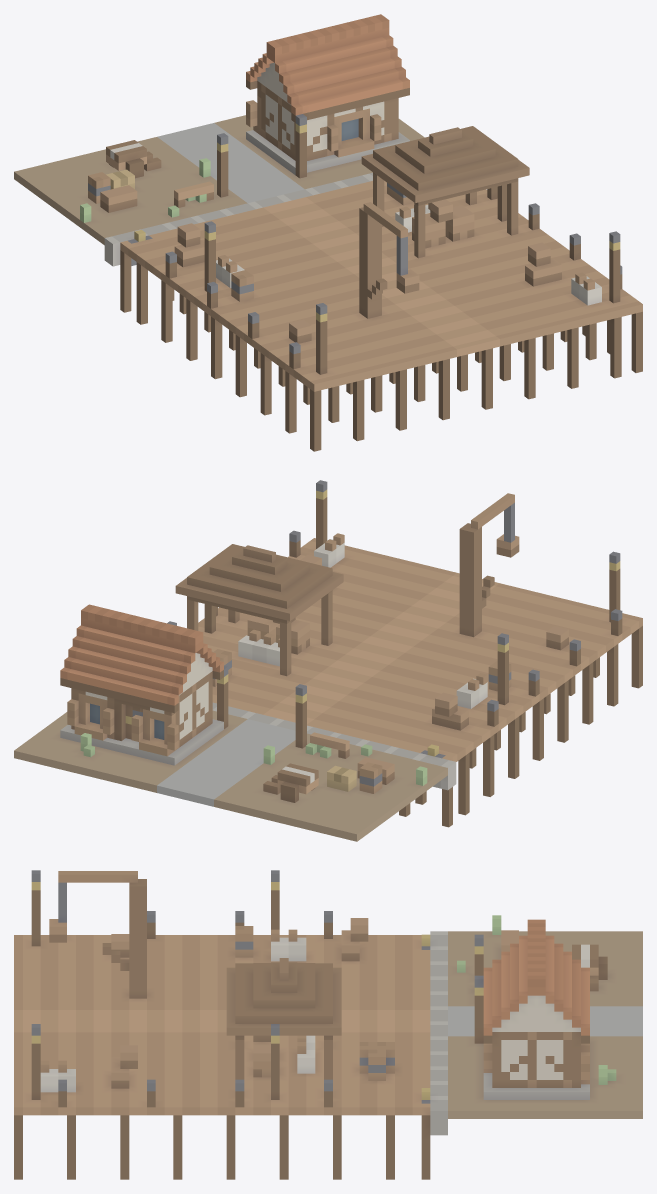
The model's file is trading_pier.glb.
The picture shows the model from 3 angles, top to bottom: view 1: azimuth 30°, elevation 25°; view 2: azimuth 150°, elevation 25°; view 3: azimuth 270°, elevation 25°; orthographic projection. The views are drawn at different scales.
Visible parts, largest first — view 1: trading_pier; view 2: trading_pier; view 3: trading_pier.
Part boxes in pixels (x1,y1,x2,y2): trading_pier: (14, 14, 642, 451); trading_pier: (14, 480, 642, 841); trading_pier: (14, 870, 642, 1179).
Bounding box in the file's own units: 6 × 3 × 8.88.
